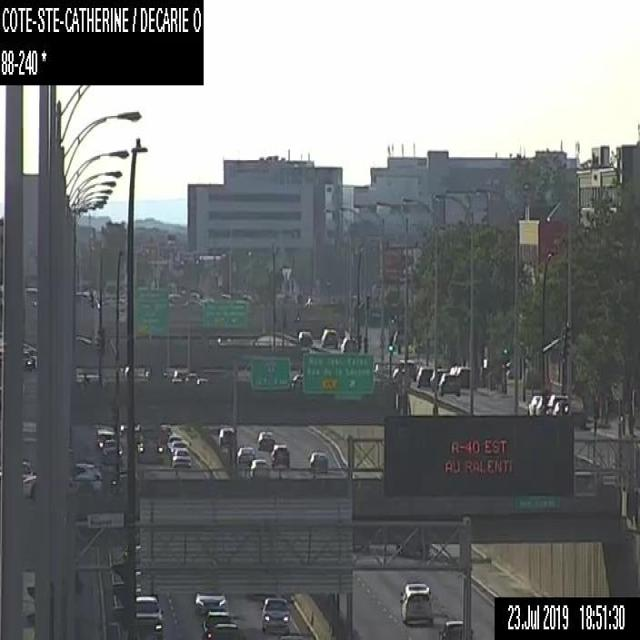vehicle: (21, 460, 103, 495), (399, 582, 434, 626), (135, 593, 163, 639), (135, 424, 164, 464), (260, 595, 290, 632), (552, 399, 586, 426), (439, 618, 473, 638), (194, 592, 226, 612), (202, 610, 230, 632), (207, 621, 240, 639), (438, 372, 459, 396), (545, 393, 567, 414), (270, 444, 289, 468), (430, 368, 449, 392), (308, 451, 328, 472), (96, 428, 116, 447), (102, 439, 123, 457), (172, 447, 190, 468), (256, 430, 274, 450), (320, 328, 338, 348), (528, 394, 545, 415), (218, 427, 234, 448), (416, 366, 432, 387), (236, 446, 254, 464), (250, 458, 268, 476), (455, 365, 469, 388), (341, 336, 358, 352), (166, 435, 182, 450), (297, 330, 312, 345), (170, 440, 188, 452), (449, 366, 458, 374)
